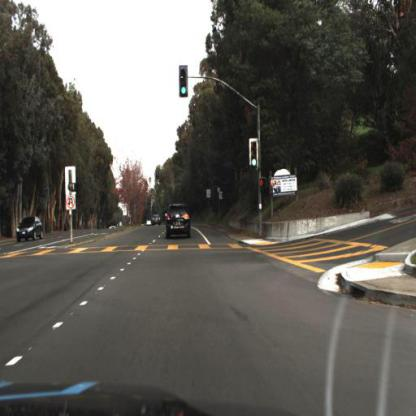car: (162, 198, 194, 241), (16, 216, 45, 245), (149, 210, 163, 232), (151, 212, 161, 227)
trafficLight-Green: (248, 136, 262, 173), (178, 64, 190, 101), (251, 155, 258, 173), (180, 85, 188, 98)
trafficLight-Red: (258, 178, 269, 190)
